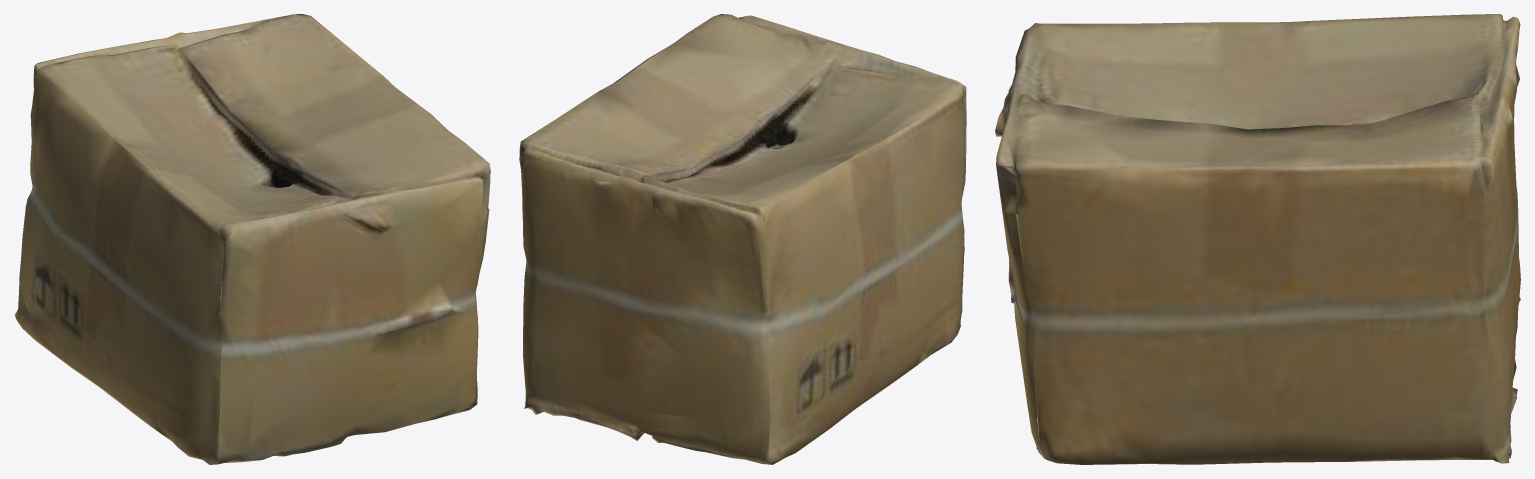
The model's file is cardboard_box_01.glb.
3 views of the same model, side by side, from view 1: azimuth 30°, elevation 25°; view 2: azimuth 150°, elevation 25°; view 3: azimuth 270°, elevation 25° (orthographic). The views are drawn at different scales.
Visible parts, largest first — view 1: c01_cardboard; view 2: c01_cardboard, c00_cardboard; view 3: c01_cardboard.
Boxes of the visible parts, x1,y1,x2,y2 form: c01_cardboard: (14, 14, 490, 464); c01_cardboard: (519, 14, 966, 464); c00_cardboard: (764, 122, 799, 148); c01_cardboard: (995, 14, 1520, 464).
Size of the model in its own units: 0.3872 by 0.3414 by 0.5155.
1 material, 1 textured.
